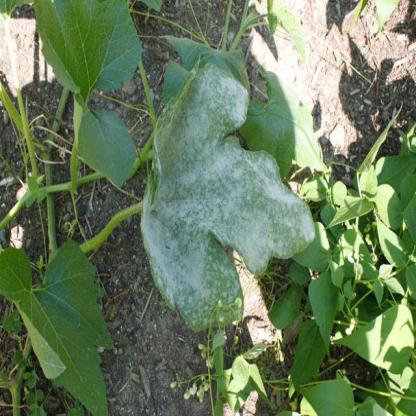Squash Powdery mildew leaf: (136, 49, 314, 334)
